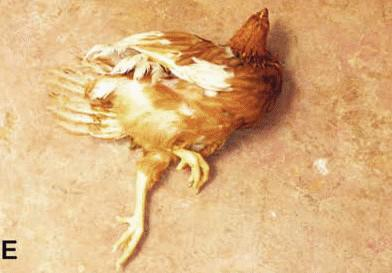AbNormal: (47, 8, 281, 263)
